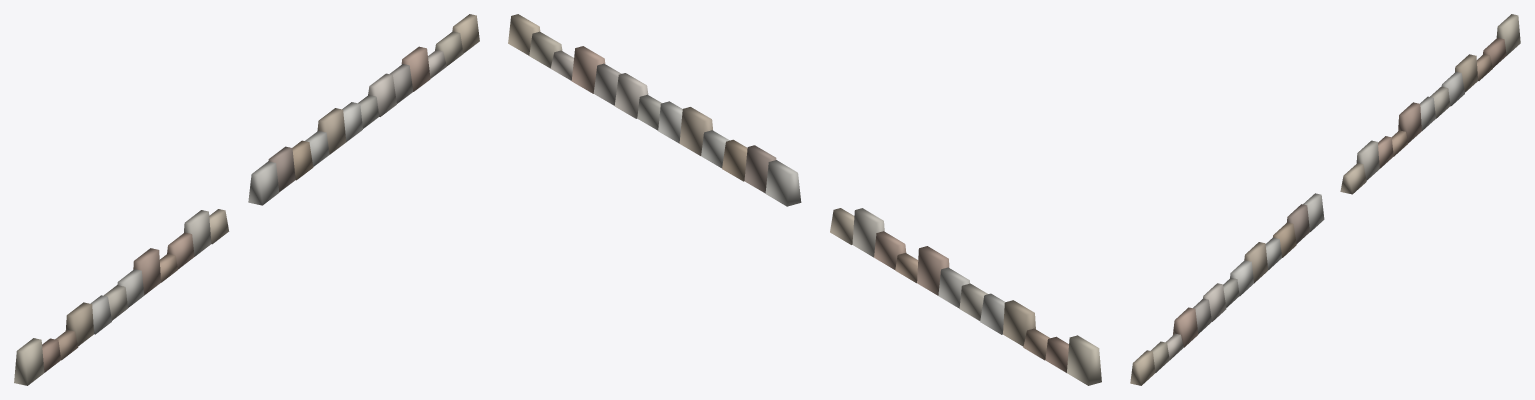
Rendered from farm_2_9_collision.glb.
The picture shows the model from 3 angles, left to right: view 1: azimuth 90°, elevation 25°; view 2: azimuth 150°, elevation 25°; view 3: azimuth 270°, elevation 25°; orthographic projection. The views are drawn at different scales.
Visible parts, largest first — view 1: geometry_0; view 2: geometry_0; view 3: geometry_0.
Part boxes in pixels (x1=…): geometry_0: x1=14, y1=14, x2=479, y2=385; geometry_0: x1=508, y1=14, x2=1101, y2=385; geometry_0: x1=1130, y1=14, x2=1520, y2=385.
Bounding box in the file's own units: 38.52 × 3.07 × 19.98.
